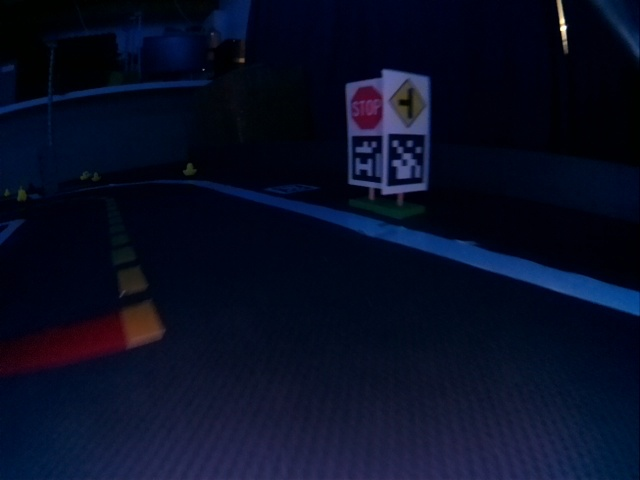Duckie: (183, 162, 197, 176), (17, 188, 27, 201), (93, 174, 100, 181)
Intersection sign: (391, 81, 427, 127)
QR code: (388, 133, 425, 188), (353, 135, 383, 181), (268, 183, 319, 192)
Stop sign: (350, 86, 383, 127)
